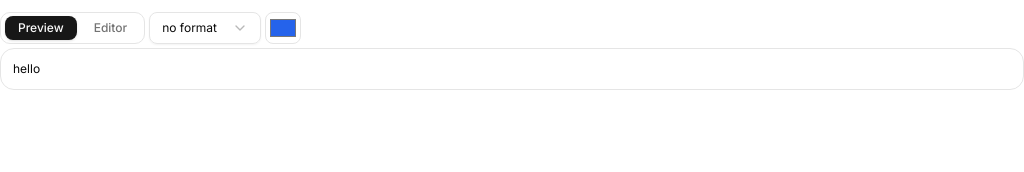
it: TextEditorWithToolbar — collapseEditorHelpers (Story 117) › shows More only in Editor mode; hides helpers behind it until opened
The image size is (1024, 172).
Check: the button "More" is not shown
Check: the text "wch" is not shown
Click the tab "Editor" at [110, 28], box [81,16,140,40]
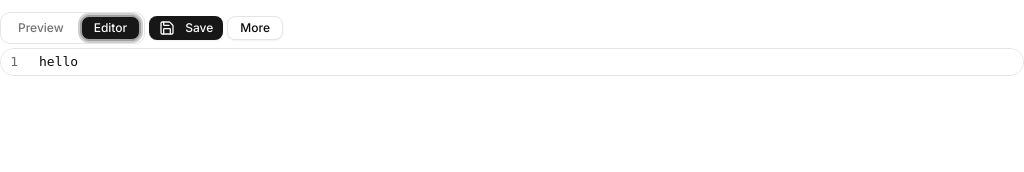
Check: the text "wch" is not shown
Check: the button "More" is shown
Click the button "More" at [255, 28], box [227,16,283,40]
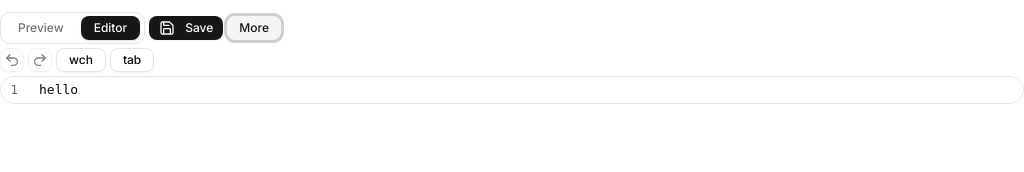
Check: the button "wch" is shown, box [56,48,106,72]
Check: the button "tab" is shown, box [110,48,154,72]
Check: the button named "undo" is shown, box [0,48,24,72]
Click the button "More" at [254, 28], box [227,16,281,40]
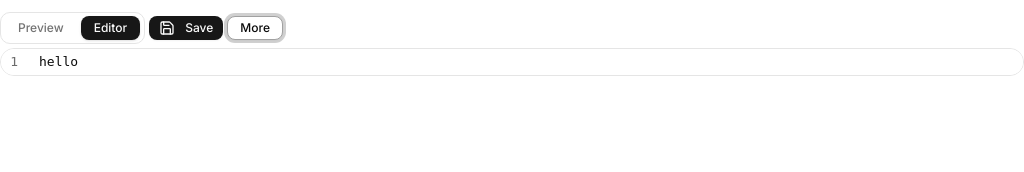
Check: the button "wch" is gone
